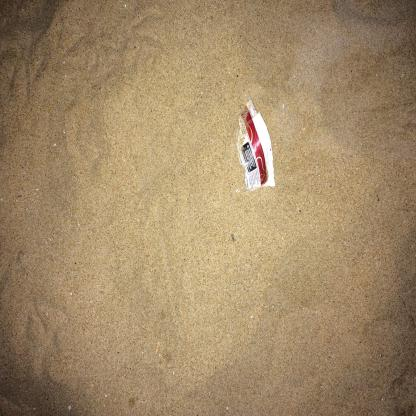trash: (234, 93, 277, 200)
